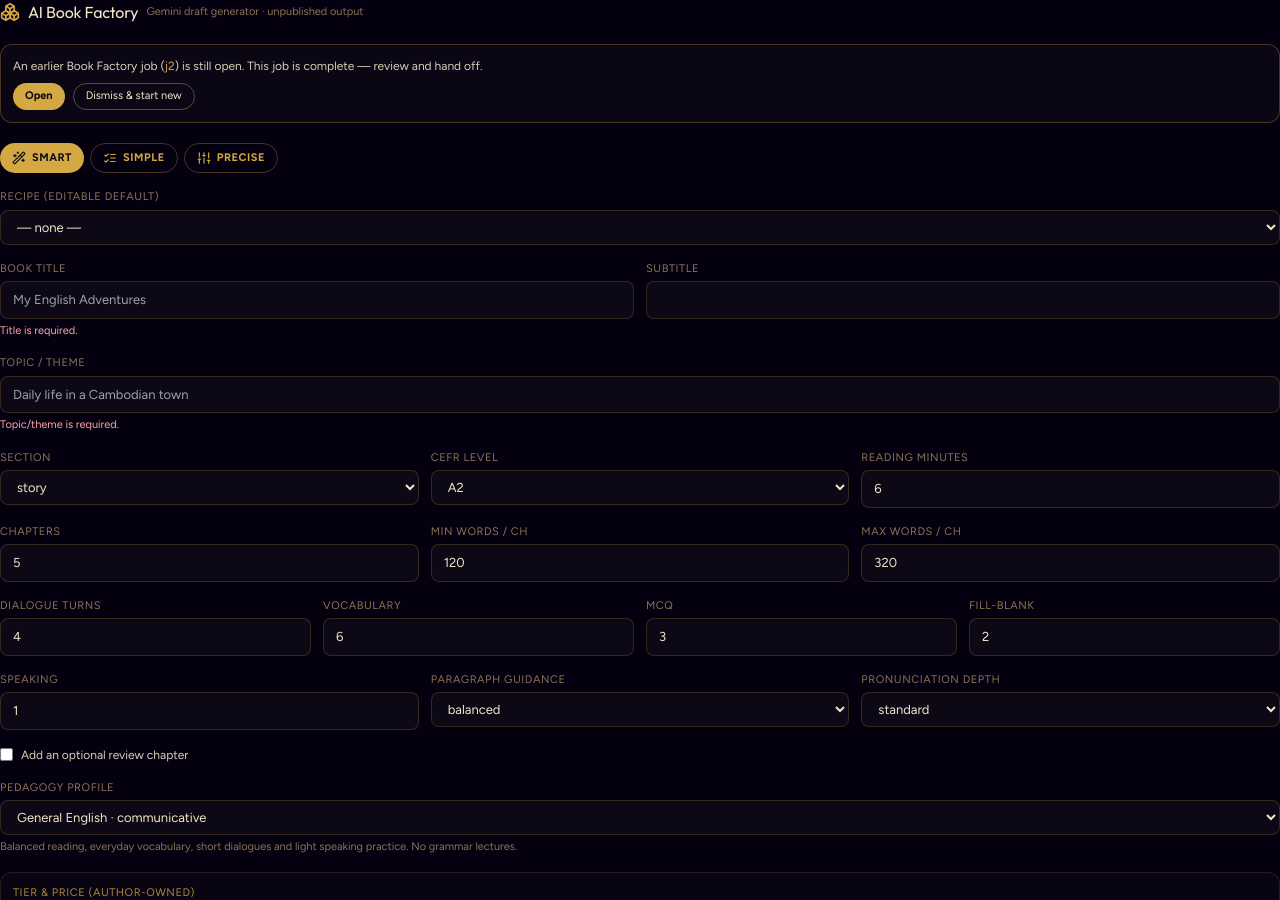
Test: BookFactoryStudio — Prepare Handoff incomplete-draft guard › one failed chapter → Prepare handoff requires explicit confirmation naming the count
Later steps or results of the test are not shown.
Expected: the element with test id "bf-resume-banner" is shown, [0, 44, 1279, 122]
Click the button with test id "bf-resume-continue".
click(39, 96)  # box [13, 83, 65, 110]
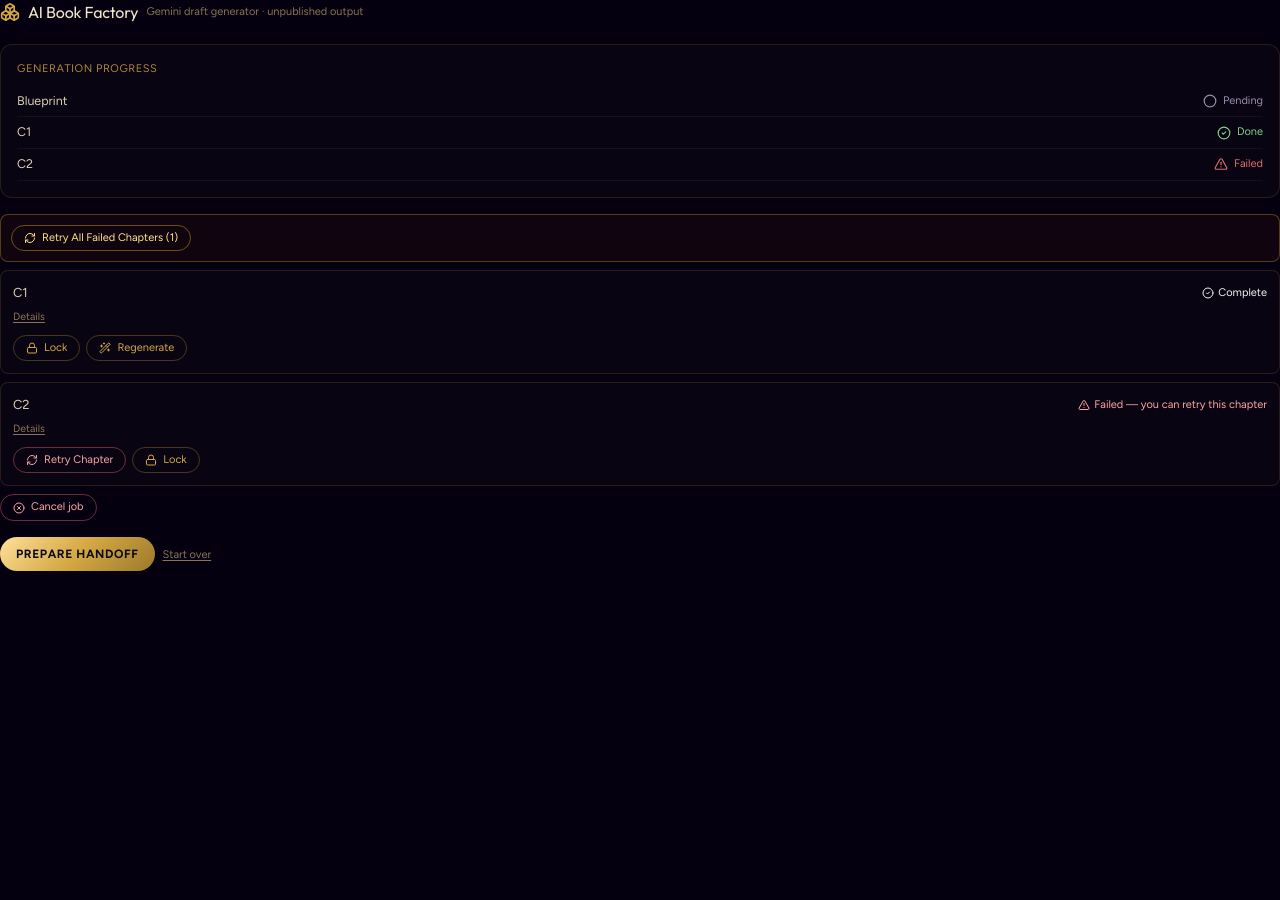
Now the button with test id "bf-prepare-handoff" is shown
Click the button with test id "bf-prepare-handoff".
click(77, 554)  # box [0, 537, 154, 571]
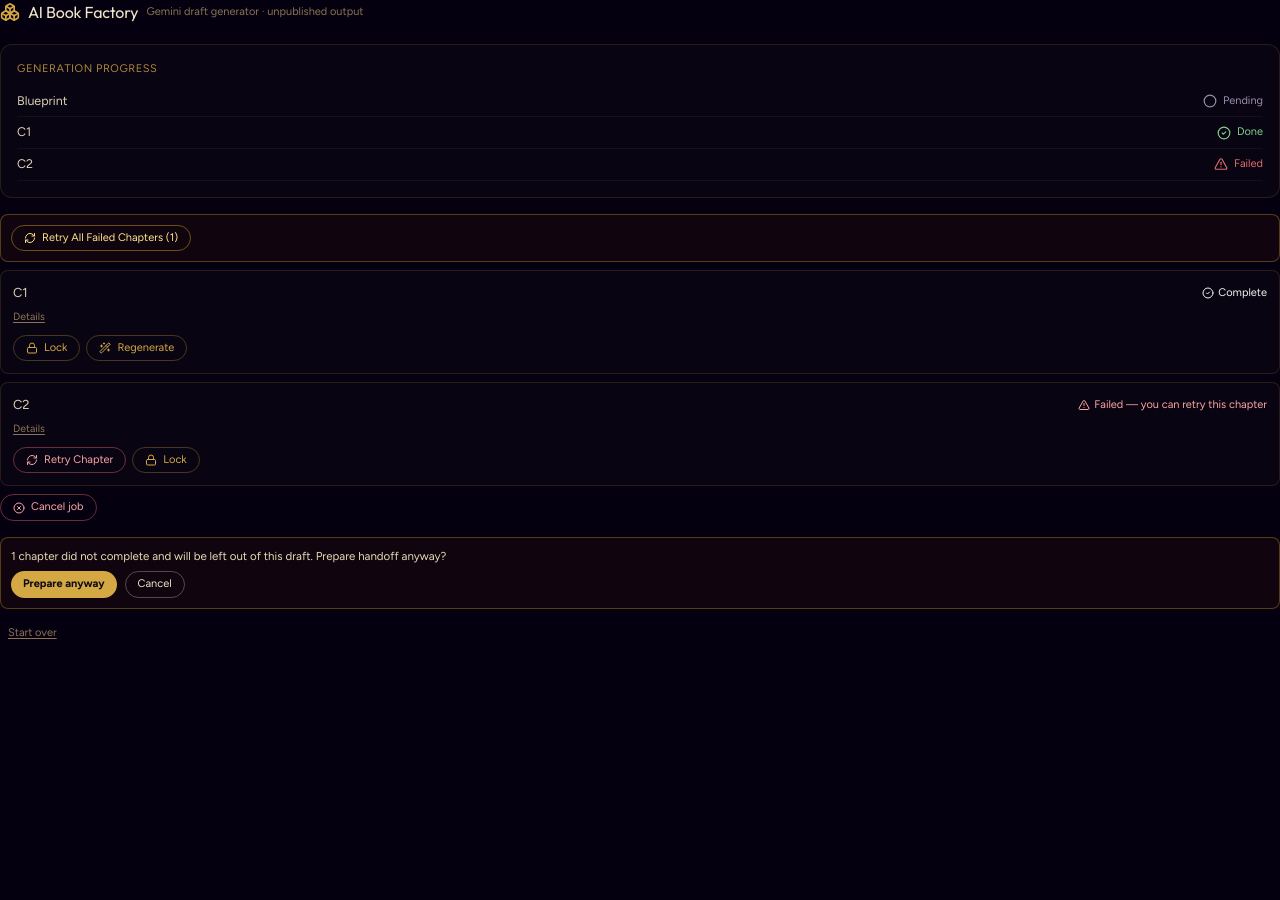
Now the element with test id "bf-prepare-handoff-confirm" shows "1 chapter", box [0, 537, 1279, 609]
